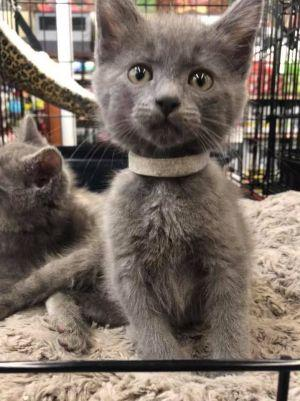rblue: (74, 1, 288, 176)
